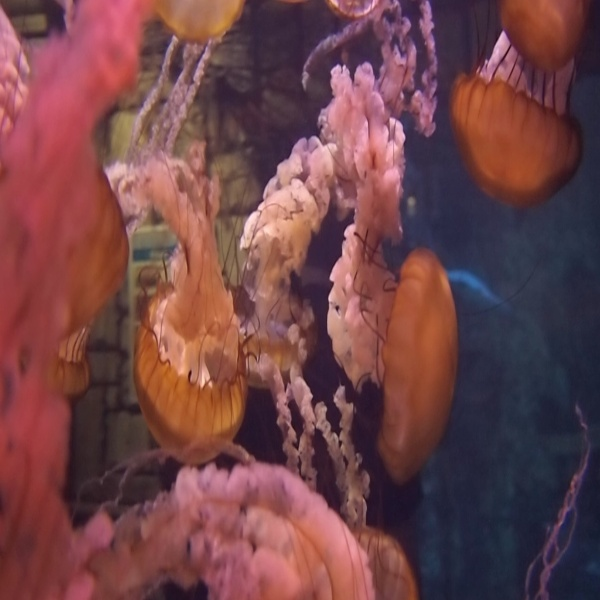Jellyfish: (0, 0, 454, 599), (114, 141, 260, 465), (446, 0, 581, 207)
